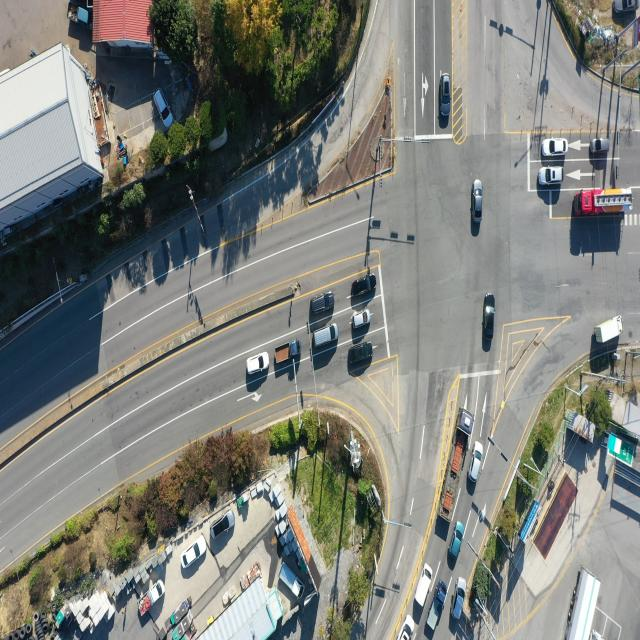car: (183, 538, 209, 571), (155, 88, 175, 129), (417, 561, 432, 607), (212, 509, 234, 539), (468, 442, 484, 483), (312, 323, 338, 348), (441, 74, 453, 127), (312, 292, 338, 315), (348, 343, 374, 366), (351, 275, 375, 298), (396, 615, 418, 640), (450, 522, 465, 558), (453, 577, 466, 618), (247, 351, 270, 374), (486, 292, 496, 343), (543, 138, 567, 157), (538, 168, 563, 186), (473, 180, 482, 224), (352, 310, 371, 328), (614, 0, 637, 14), (591, 138, 611, 154)
medium_truck: (436, 406, 474, 526), (565, 566, 600, 638), (575, 188, 633, 218)
small_truck: (139, 580, 165, 618), (426, 586, 446, 632), (64, 0, 92, 28), (598, 315, 624, 345), (280, 563, 303, 596), (274, 340, 300, 364)
